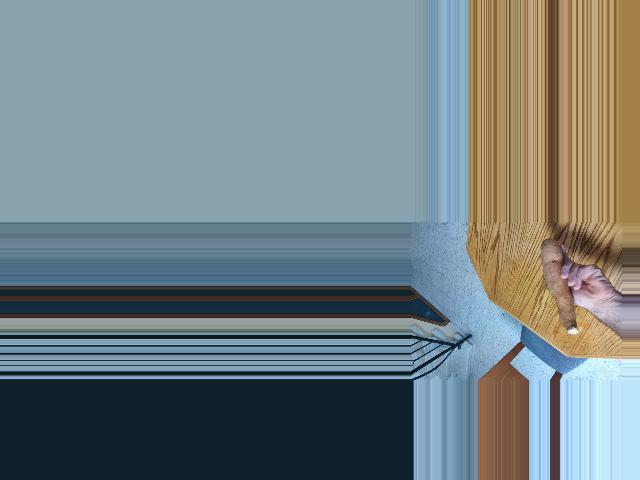sweet_potato: (537, 240, 579, 336)
